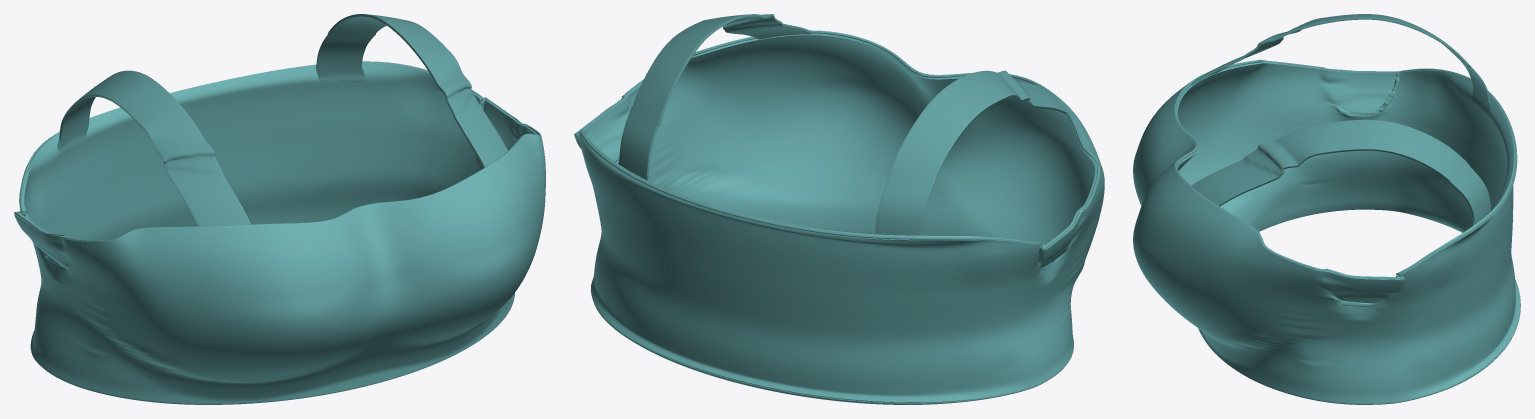
The model's file is Feminine-tank-top.glb.
The picture shows the model from 3 angles, left to right: view 1: azimuth 30°, elevation 25°; view 2: azimuth 150°, elevation 25°; view 3: azimuth 270°, elevation 25°; orthographic projection. The views are drawn at different scales.
Parts seen in each view (by area): view 1: Clothing / tank body, Clothing / Tank seated shoulder strap -1, Clothing / Tank seated shoulder strap 1, Top / seated binding191 1 export; view 2: Clothing / tank body, Clothing / Tank seated shoulder strap -1, Clothing / Tank seated shoulder strap 1, Top / seated binding191 1 export, Top / seated binding191 0 export; view 3: Clothing / tank body, Clothing / Tank seated shoulder strap 1, Clothing / Tank seated shoulder strap -1, Top / seated binding191 1 export, Top / seated binding191 0 export.
Part boxes in pixels (x1=…): Clothing / tank body: x1=14, y1=62, x2=545, y2=404; Clothing / Tank seated shoulder strap -1: x1=57, y1=70, x2=250, y2=226; Clothing / Tank seated shoulder strap 1: x1=316, y1=14, x2=507, y2=168; Top / seated binding191 1 export: x1=14, y1=61, x2=540, y2=241; Clothing / tank body: x1=574, y1=30, x2=1104, y2=404; Clothing / Tank seated shoulder strap -1: x1=875, y1=70, x2=1066, y2=235; Clothing / Tank seated shoulder strap 1: x1=618, y1=14, x2=811, y2=180; Top / seated binding191 1 export: x1=574, y1=31, x2=1099, y2=249; Top / seated binding191 0 export: x1=594, y1=304, x2=1063, y2=404; Clothing / tank body: x1=1133, y1=59, x2=1520, y2=404; Clothing / Tank seated shoulder strap 1: x1=1191, y1=119, x2=1490, y2=225; Clothing / Tank seated shoulder strap -1: x1=1191, y1=14, x2=1490, y2=113; Top / seated binding191 1 export: x1=1175, y1=60, x2=1517, y2=279; Top / seated binding191 0 export: x1=1246, y1=296, x2=1520, y2=404.
Bounding box in the file's own units: 0.6426 × 0.3451 × 0.507.
